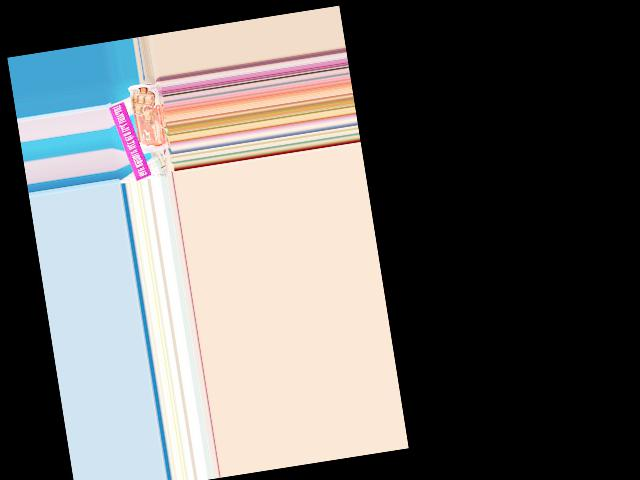chocolate: (126, 79, 169, 156)
